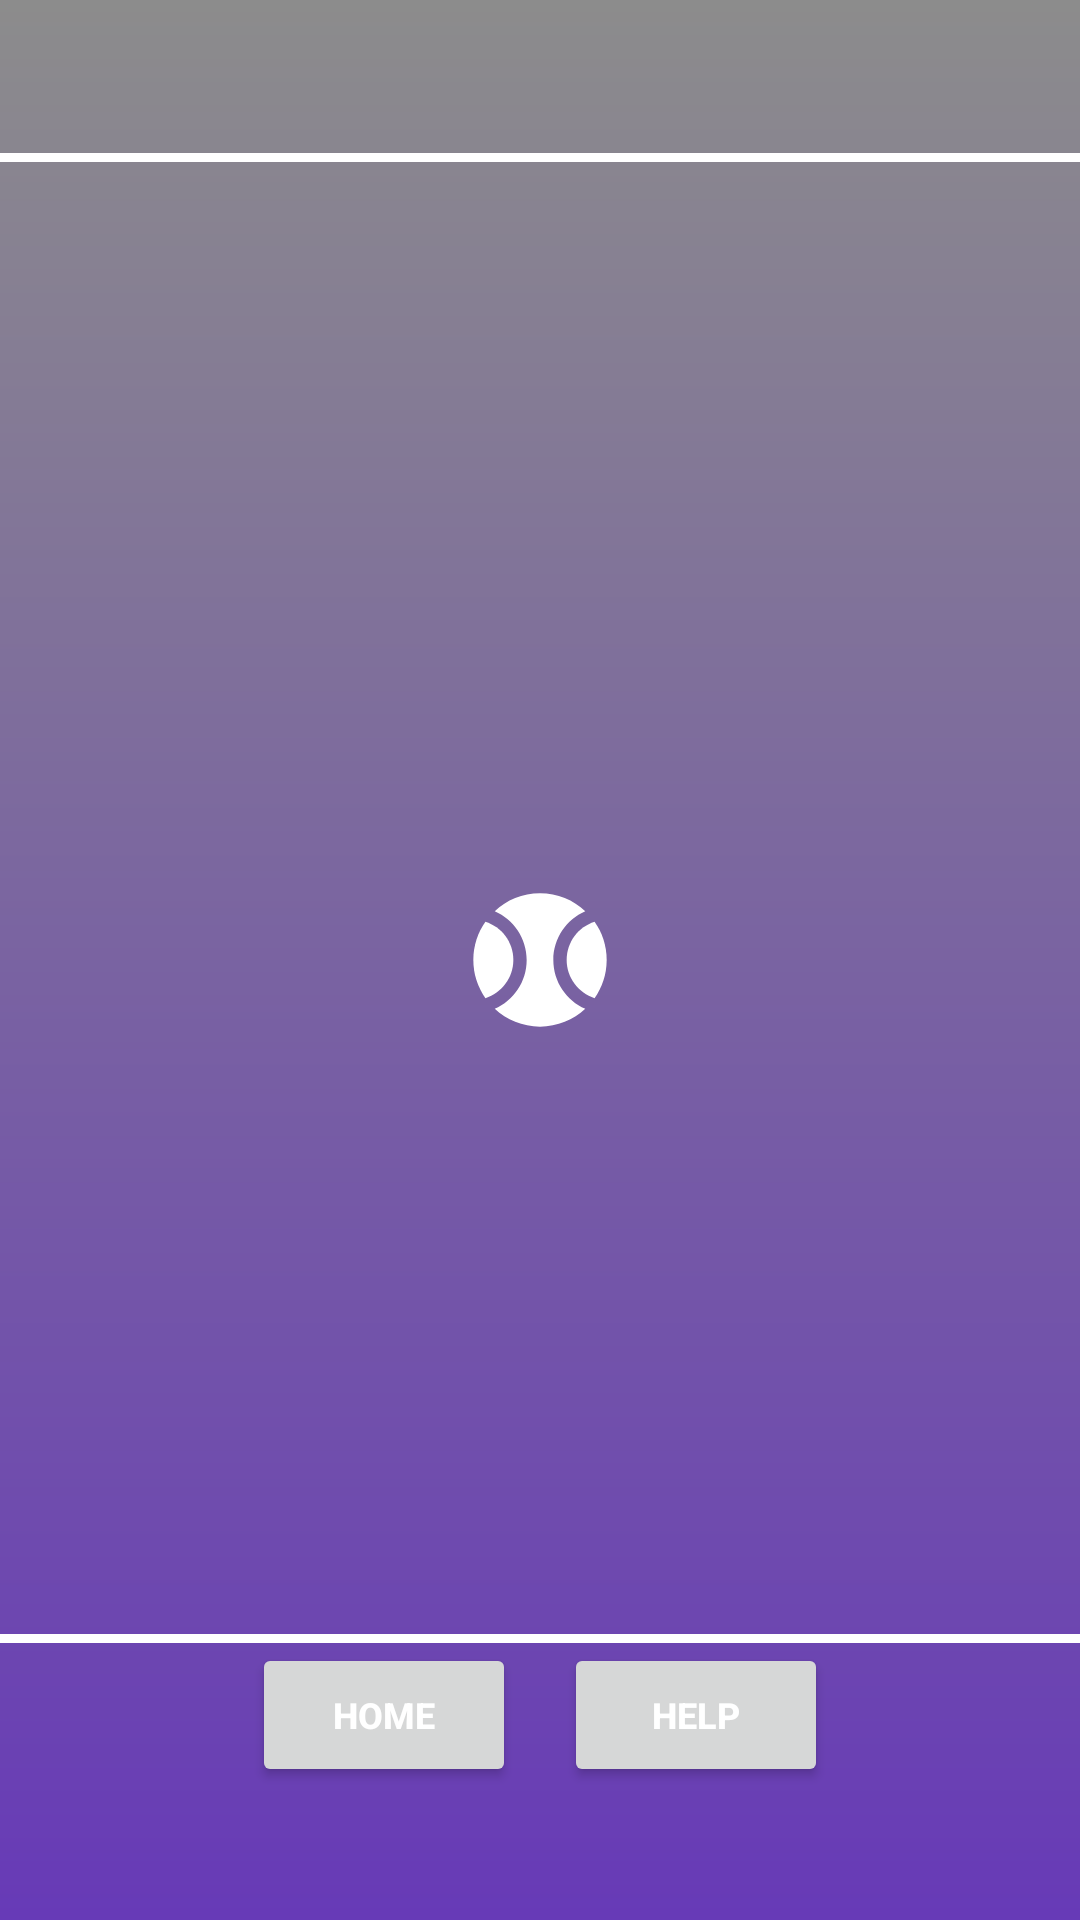

Where to tap for icons on this 1080*1920 app screen, as point (x, y):
ball: point (540, 960)
